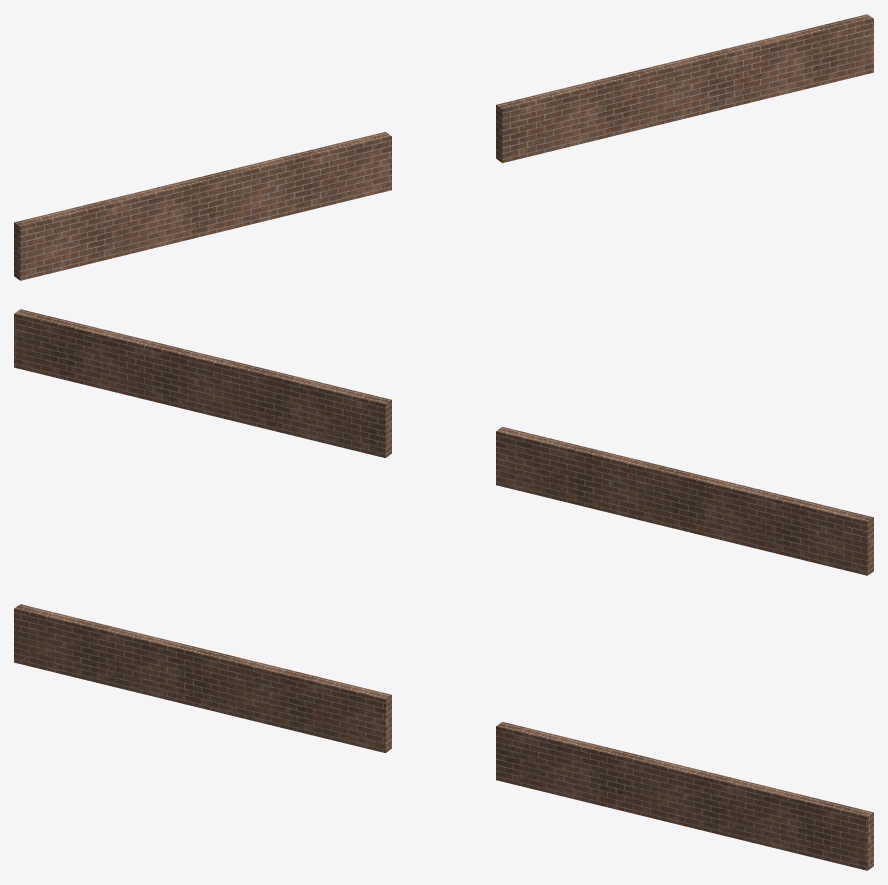
Rendered from Joglo_part_234.fbx.
The picture shows the model from 3 angles, top to bottom: view 1: azimuth 30°, elevation 25°; view 2: azimuth 150°, elevation 25°; view 3: azimuth 330°, elevation 25°; orthographic projection.
Visible parts, largest first — view 1: Mesh304_Brick___Brown_0.001; view 2: Mesh304_Brick___Brown_0.001; view 3: Mesh304_Brick___Brown_0.001.
Boxes of the visible parts, <box> form: Mesh304_Brick___Brown_0.001: <box>14,14,873,280</box>; Mesh304_Brick___Brown_0.001: <box>14,309,873,575</box>; Mesh304_Brick___Brown_0.001: <box>14,604,873,870</box>.
Bounding box in the file's own units: 456 × 27.47 × 5.91.
